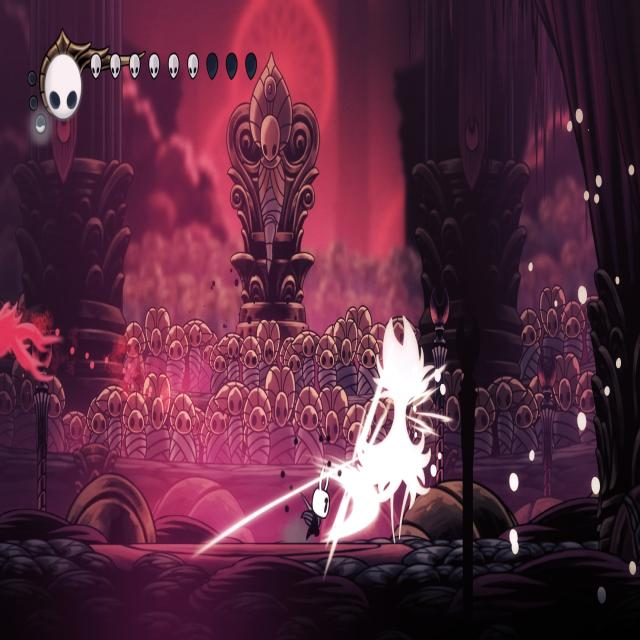Fire Bat: (0, 292, 58, 382)
Grimm: (354, 305, 436, 540)
Player: (300, 466, 332, 542)
